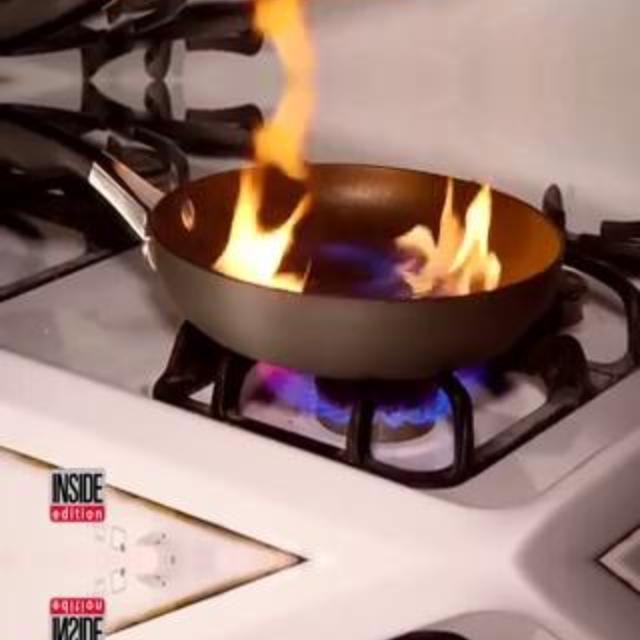smoke: (210, 109, 317, 297), (210, 0, 544, 51), (390, 174, 505, 300)
